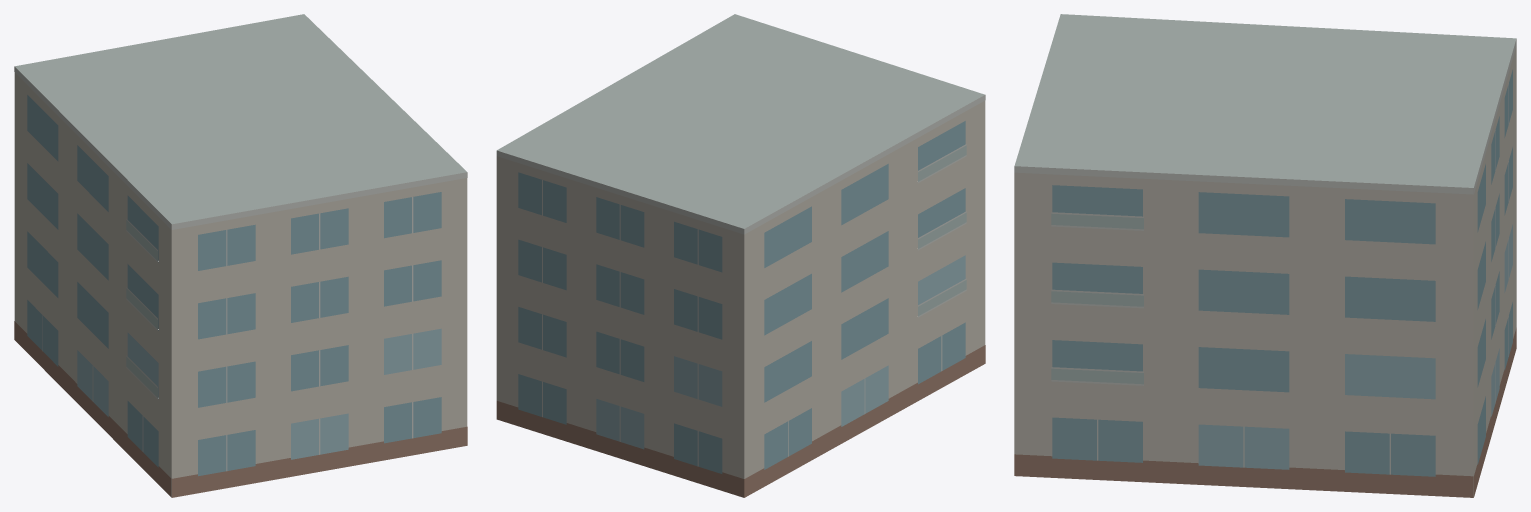
Rendered from survey-upis-32636911.glb.
3 views of the same model, side by side, from view 1: azimuth 30°, elevation 25°; view 2: azimuth 150°, elevation 25°; view 3: azimuth 270°, elevation 25° (orthographic). The views are drawn at different scales.
Parts seen in each view (by area): view 1: survey-upis-32636911.tmp; view 2: survey-upis-32636911.tmp; view 3: survey-upis-32636911.tmp.
Boxes of the visible parts, bbox=[...] form: survey-upis-32636911.tmp: bbox=[14, 14, 467, 497]; survey-upis-32636911.tmp: bbox=[496, 14, 985, 497]; survey-upis-32636911.tmp: bbox=[1014, 14, 1516, 497].
Bounding box in the file's own units: 14.04 × 11.65 × 17.12.
